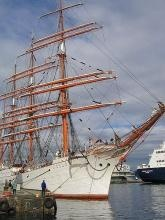fanchuan: (3, 1, 165, 198)
